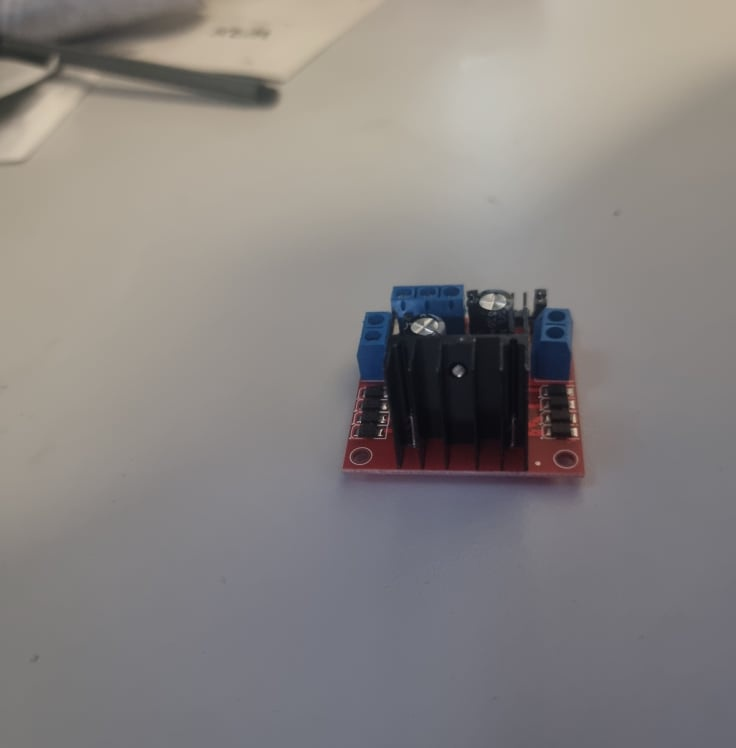MOTOR: (342, 280, 583, 479)
